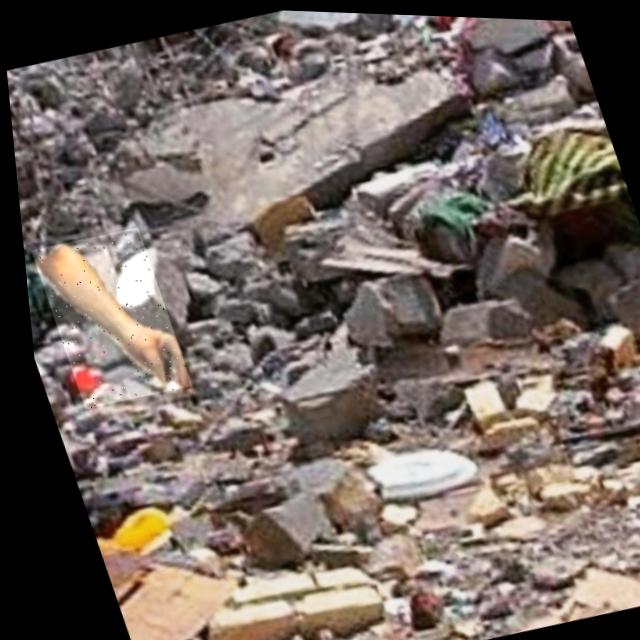Person in Rubble: (23, 223, 186, 412)
